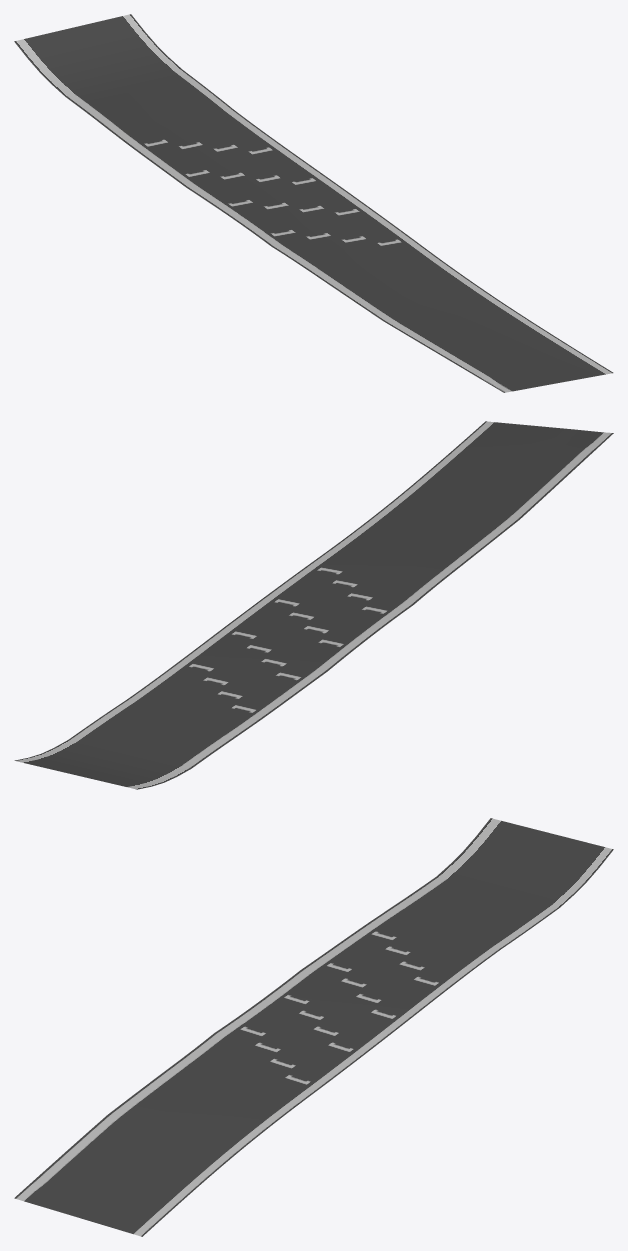
File: sm_road.002.fbx
The picture shows the model from 3 angles, top to bottom: view 1: azimuth 30°, elevation 25°; view 2: azimuth 150°, elevation 25°; view 3: azimuth 330°, elevation 25°; orthographic projection. The views are drawn at different scales.
Visible parts, largest first — view 1: sm_road.016; view 2: sm_road.016; view 3: sm_road.016.
Boxes of the visible parts, x1,y1,x2,y2 form: sm_road.016: (14,14,613,392); sm_road.016: (14,421,613,789); sm_road.016: (14,818,613,1236).
Size of the model in its own units: 17.45 by 2.88 by 103.
